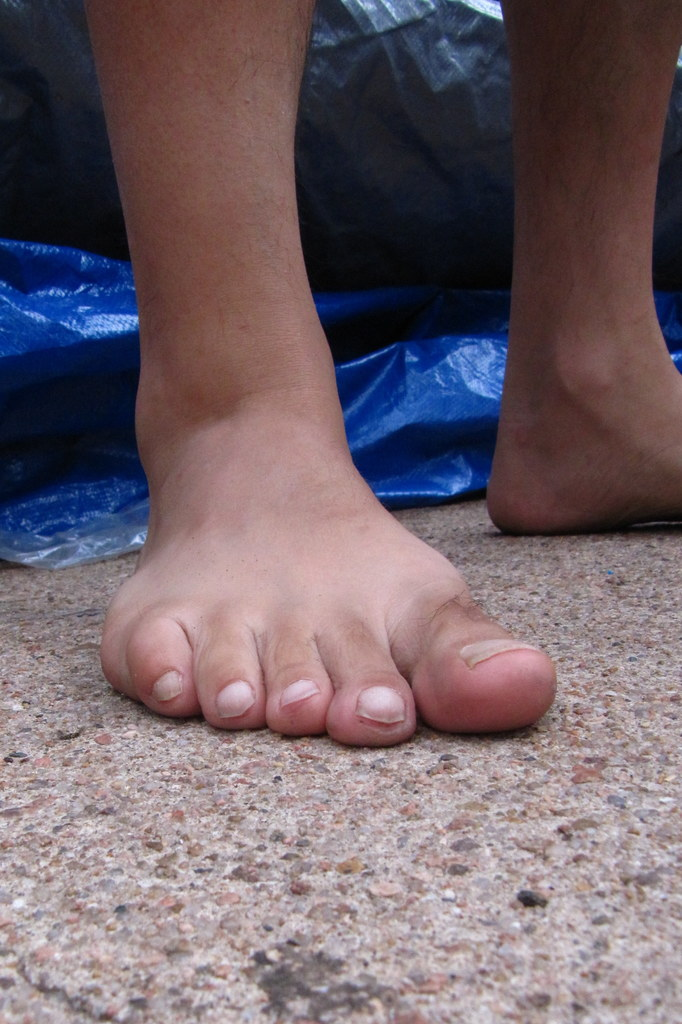Person: (81, 0, 681, 747)
